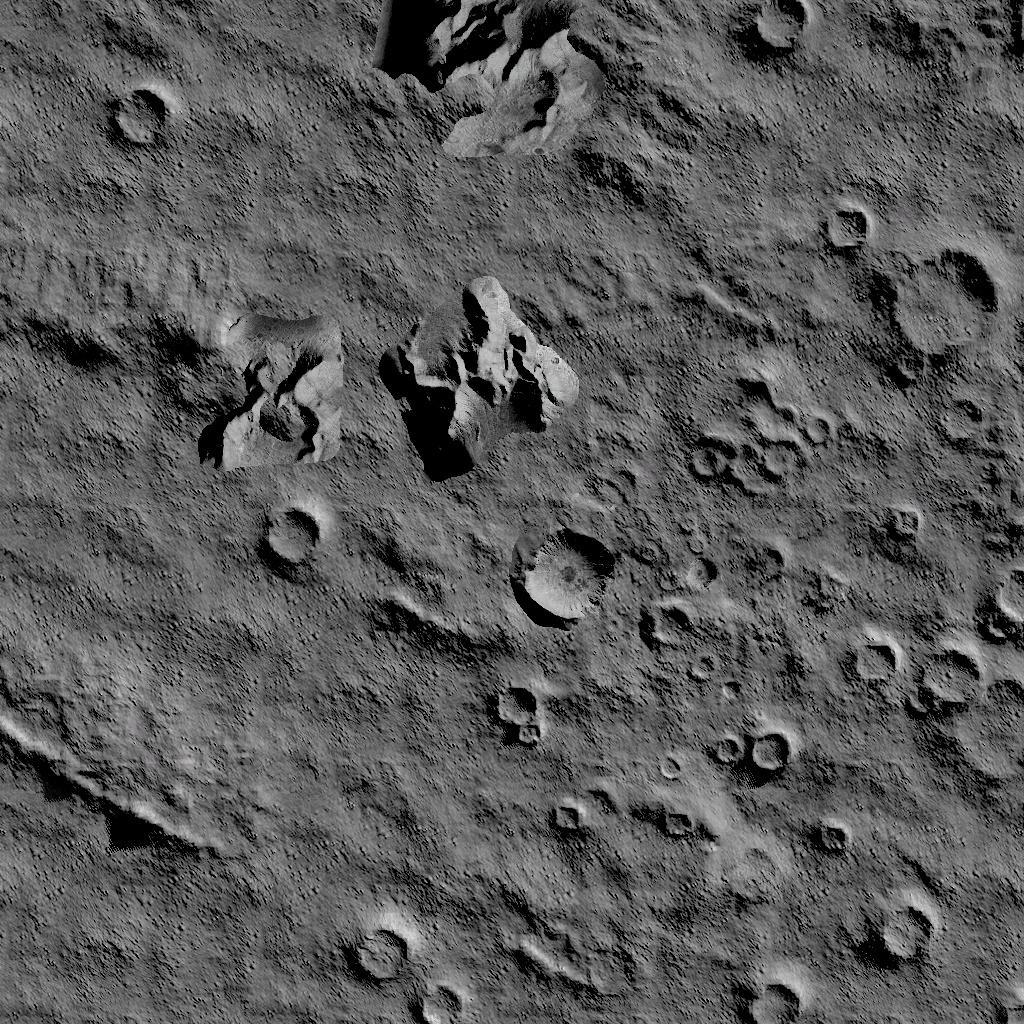Boulders: (0, 250, 345, 474), (370, 0, 668, 215), (382, 272, 580, 477), (0, 704, 224, 873), (362, 512, 490, 656)
Crater: (832, 560, 1024, 790), (883, 248, 1024, 448), (676, 366, 832, 506), (335, 907, 470, 1024), (506, 514, 618, 638), (640, 545, 728, 653), (858, 889, 946, 975), (256, 492, 332, 580), (730, 0, 822, 71), (100, 82, 178, 162), (722, 960, 812, 1024), (698, 718, 796, 773), (486, 674, 552, 754), (814, 196, 872, 266), (868, 494, 924, 546), (543, 792, 593, 844), (653, 798, 702, 846), (806, 814, 854, 862), (979, 975, 1024, 1024)
Plan surface: (3, 886, 302, 1024), (0, 502, 241, 670), (261, 671, 457, 858), (220, 0, 352, 230), (764, 83, 1022, 176)
